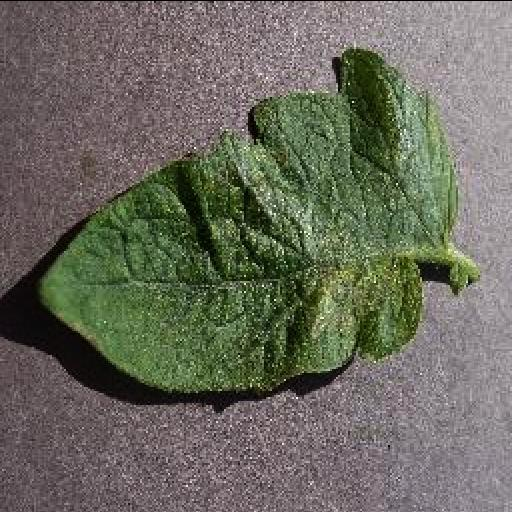disease_tomato: (34, 48, 462, 398)
